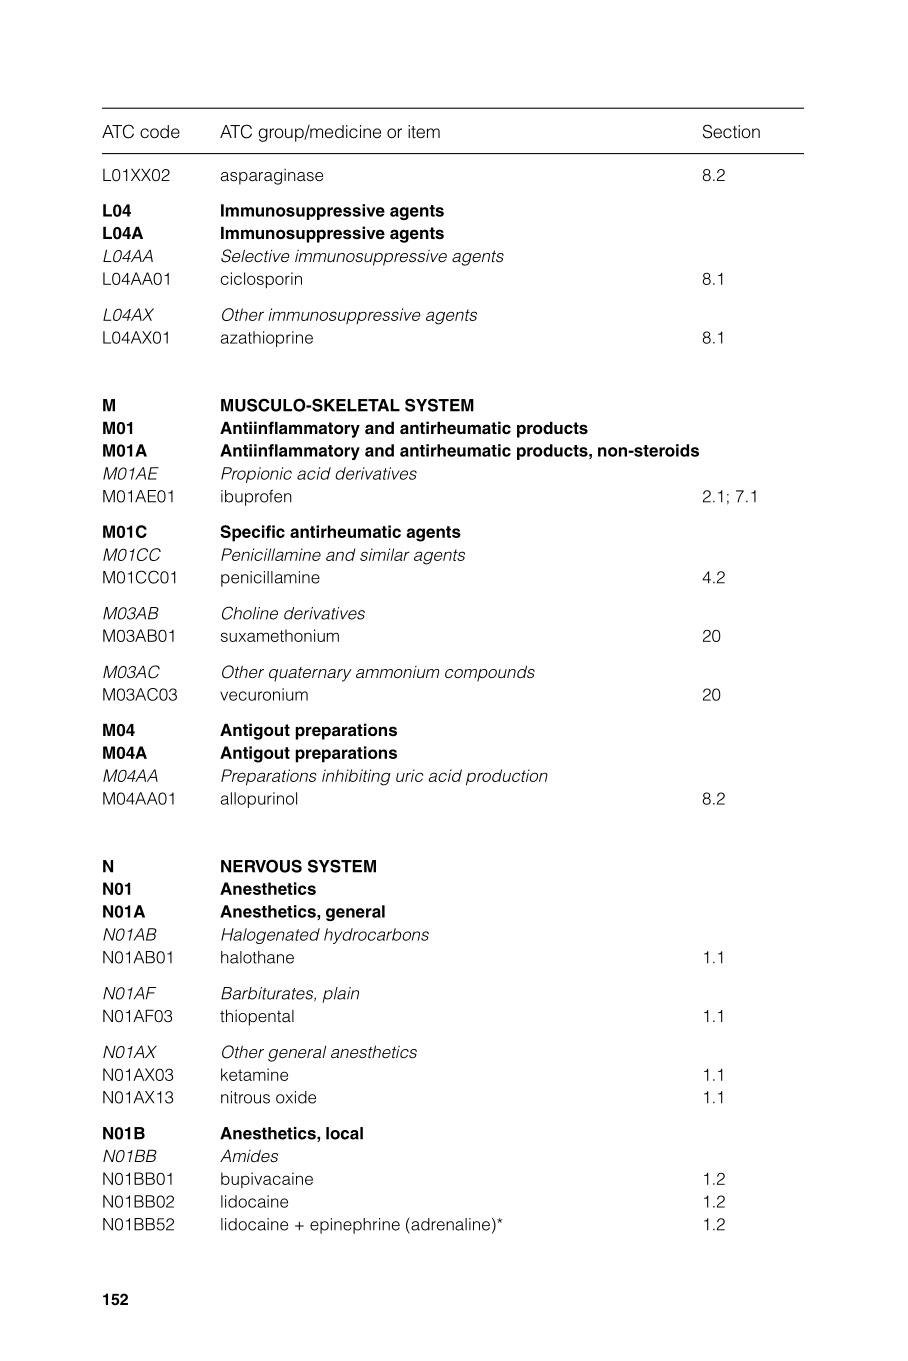partial_lined_merged_cells: (99, 106, 808, 1240)
